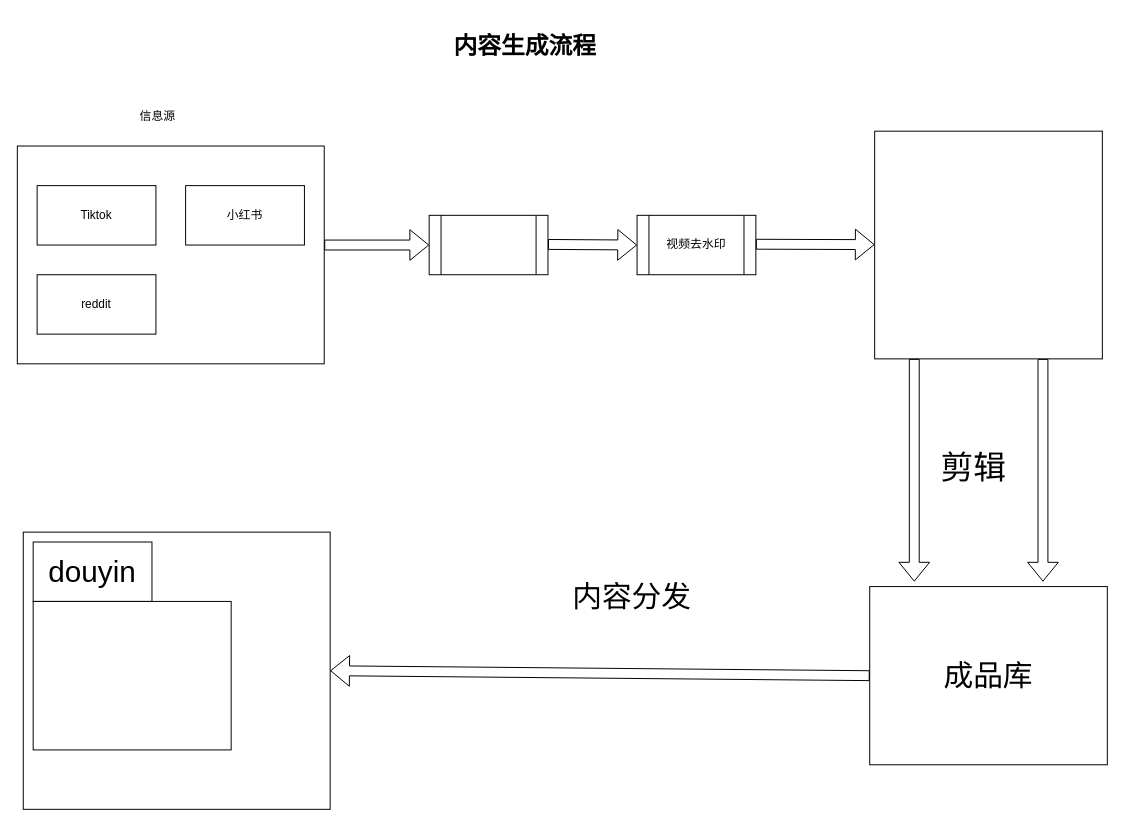
This 1125x827 diagram has some shape labels left out. The shapes that lost their labels are listed below. From the top down, each one's centre as x and y in pixels, then its label:
the point at 488,244: 视频地址拾取
the point at 988,244: 素材库
the point at 131,675: xiaohongshu
